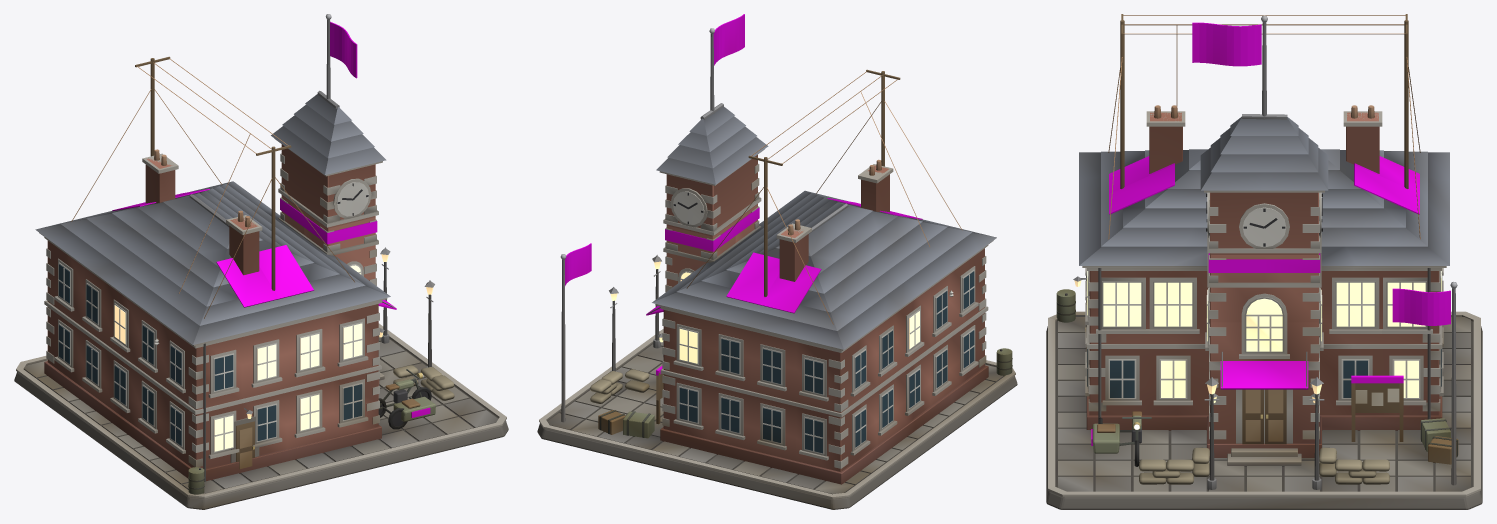
File: command_center_industrial.glb
3 views of the same model, side by side, from view 1: azimuth 30°, elevation 25°; view 2: azimuth 150°, elevation 25°; view 3: azimuth 270°, elevation 25° (orthographic). The views are drawn at different scales.
Parts seen in each view (by area): view 1: Body; view 2: Body; view 3: Body.
Part boxes in pixels (x1,y1,x2,y2): Body: [14, 14, 508, 509]; Body: [537, 14, 1017, 509]; Body: [1046, 14, 1482, 509].
Bounding box in the file's own units: 5.99 × 6.68 × 5.99.
1 material, 1 textured.
